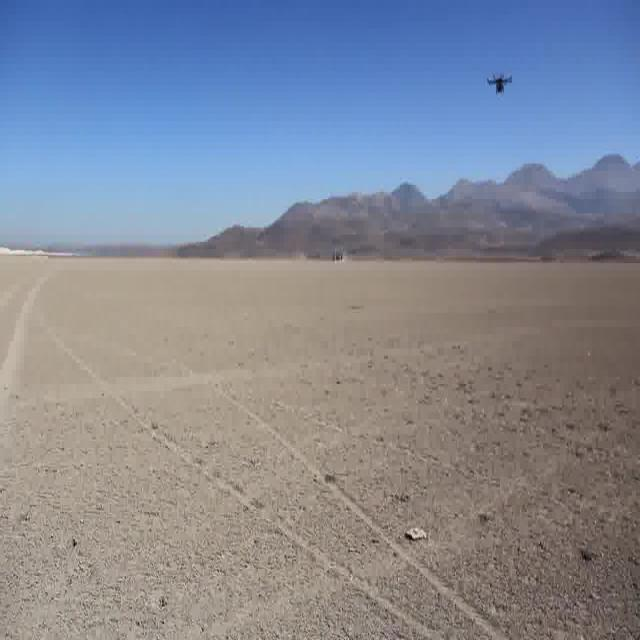drones: (482, 61, 518, 102)
